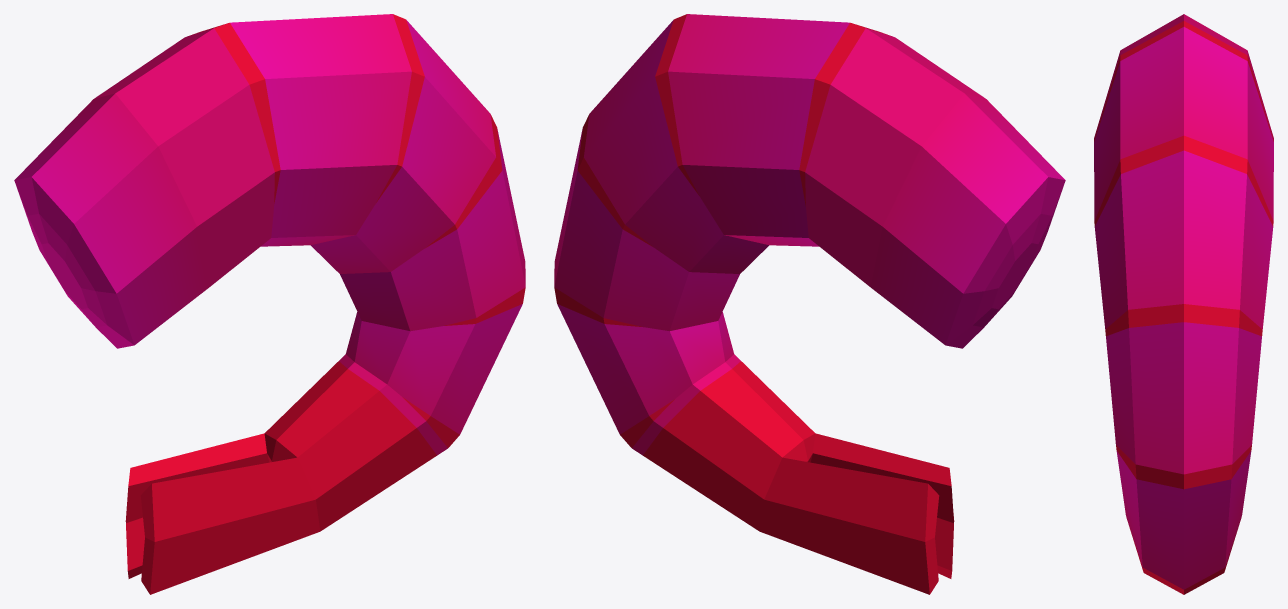
Rendered from Shrimp_01.fbx.
The picture shows the model from 3 angles, left to right: view 1: azimuth 30°, elevation 25°; view 2: azimuth 150°, elevation 25°; view 3: azimuth 270°, elevation 25°; orthographic projection.
Visible parts, largest first — view 1: Shrimp_01; view 2: Shrimp_01; view 3: Shrimp_01.
Boxes of the visible parts, box(x1,y1,x2,y2) form: Shrimp_01: box(14, 14, 525, 594); Shrimp_01: box(554, 14, 1065, 594); Shrimp_01: box(1094, 14, 1273, 594).
Bounding box in the file's own units: 5.15 × 5.41 × 1.65.
